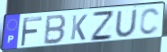B: (42, 14, 68, 46)
C: (139, 7, 162, 37)
F: (20, 16, 44, 48)
K: (69, 14, 88, 42)
U: (114, 8, 139, 38)
Z: (90, 10, 115, 43)
